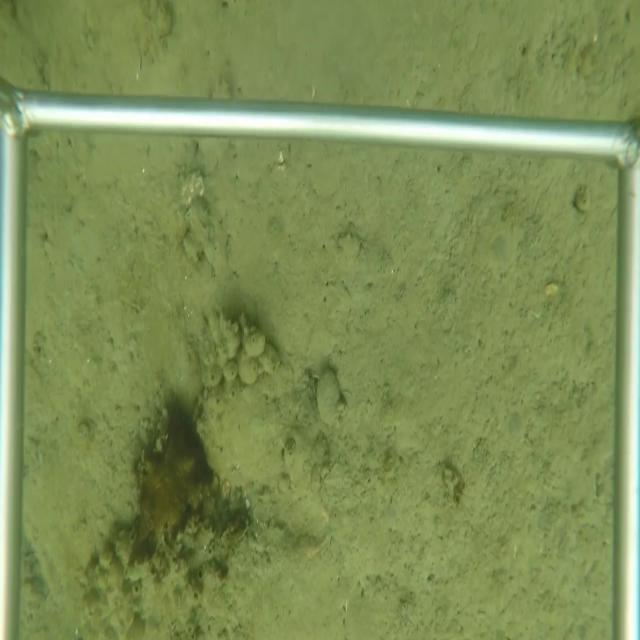Oyster-Indeterminate: (315, 364, 342, 434)
